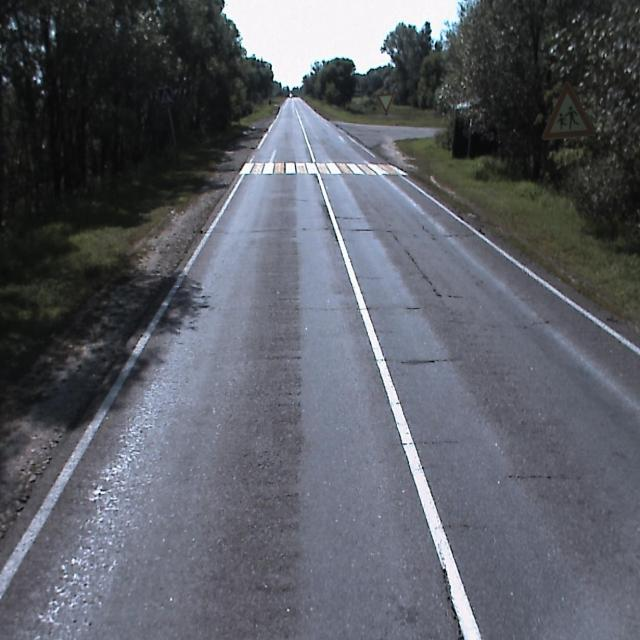road: (0, 93, 639, 639)
